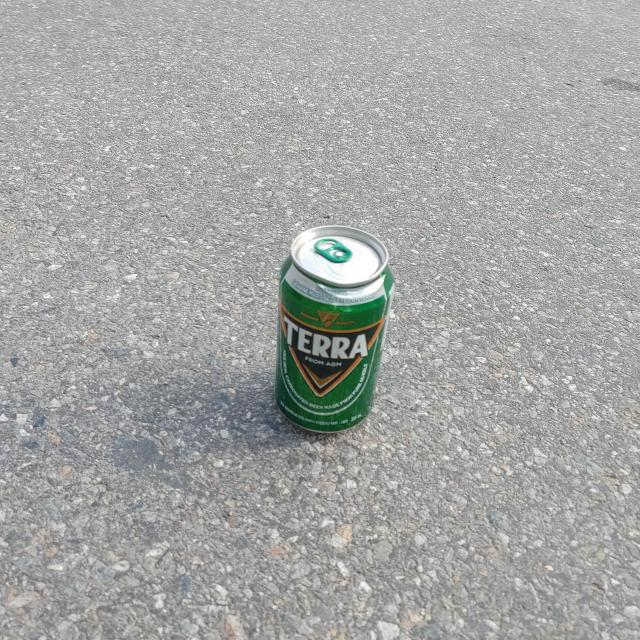can: (275, 225, 394, 433)
